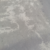zebra: (1, 5, 39, 40)
